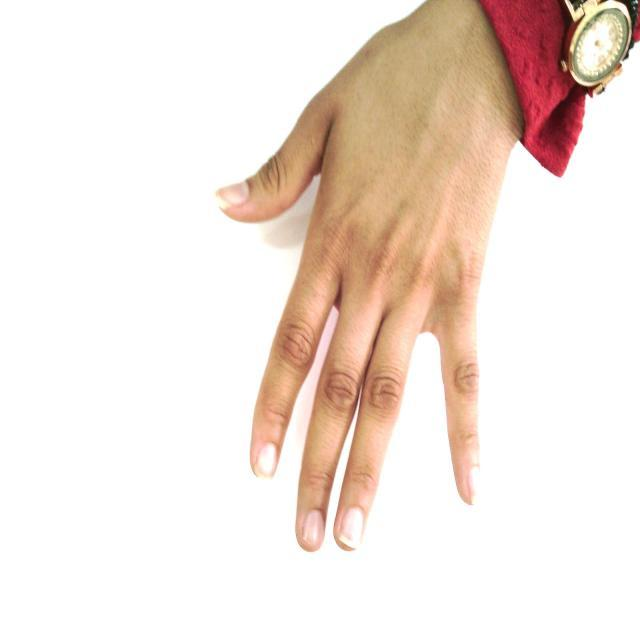Fingernail: (338, 509, 365, 548), (214, 181, 250, 210), (301, 510, 323, 546), (256, 444, 277, 477), (469, 468, 482, 502)
